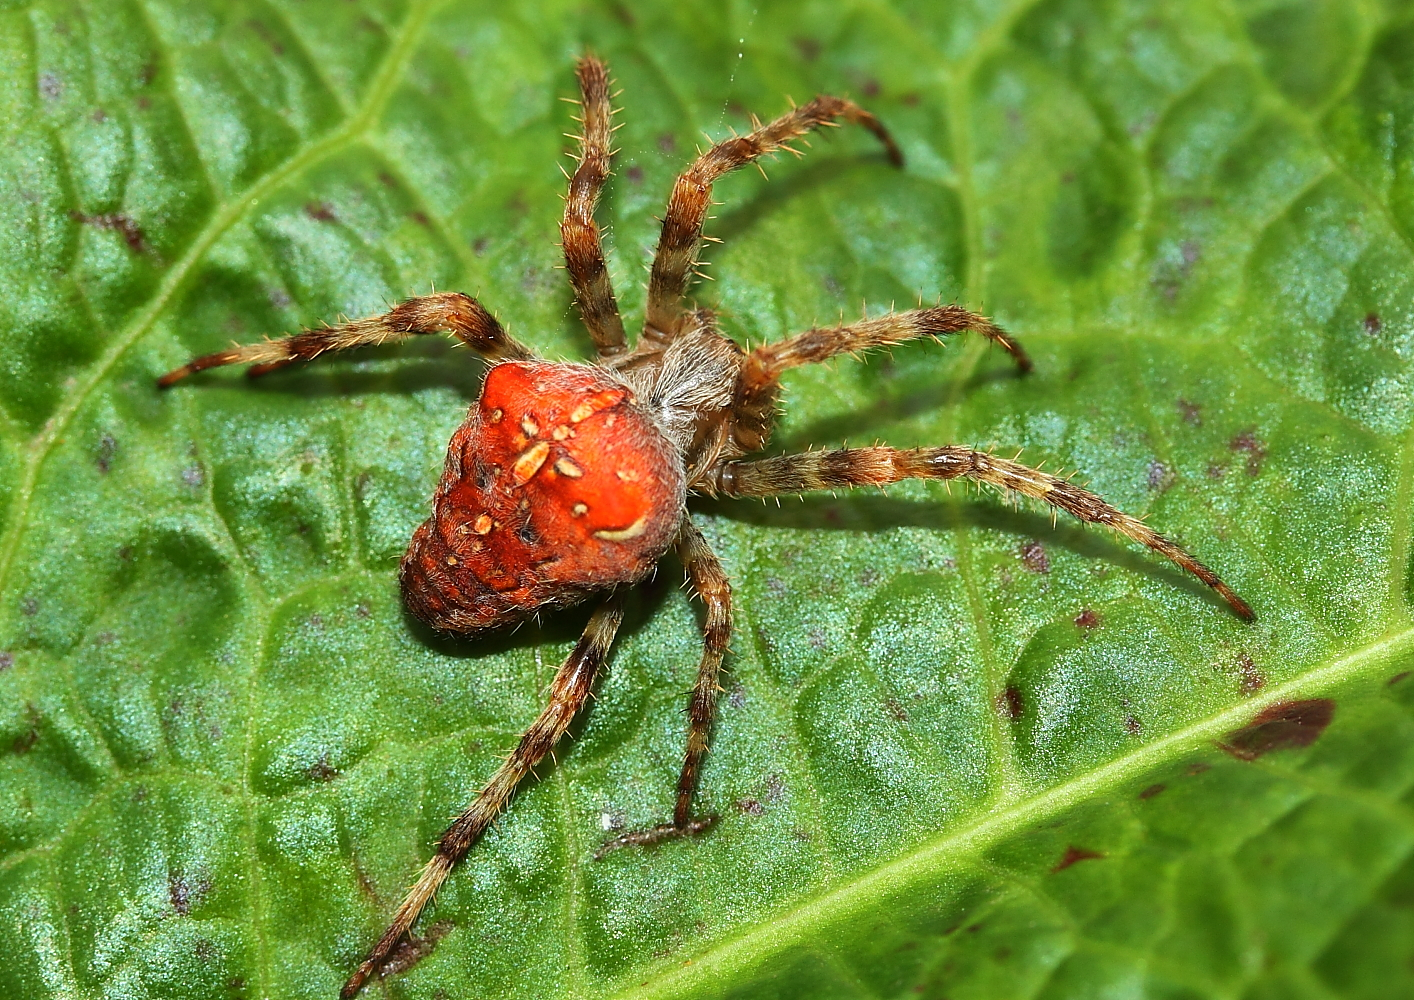spider: (88, 29, 1297, 999)
